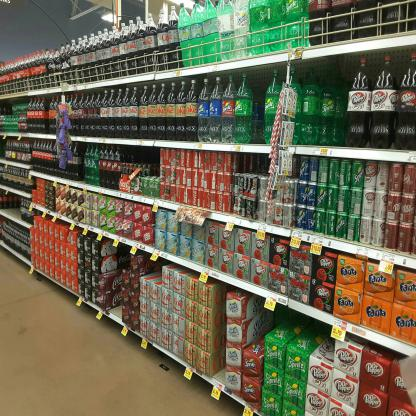Void: (281, 310, 330, 349), (216, 289, 225, 384), (252, 79, 264, 137), (236, 154, 266, 175), (110, 273, 121, 312), (144, 148, 160, 174)
